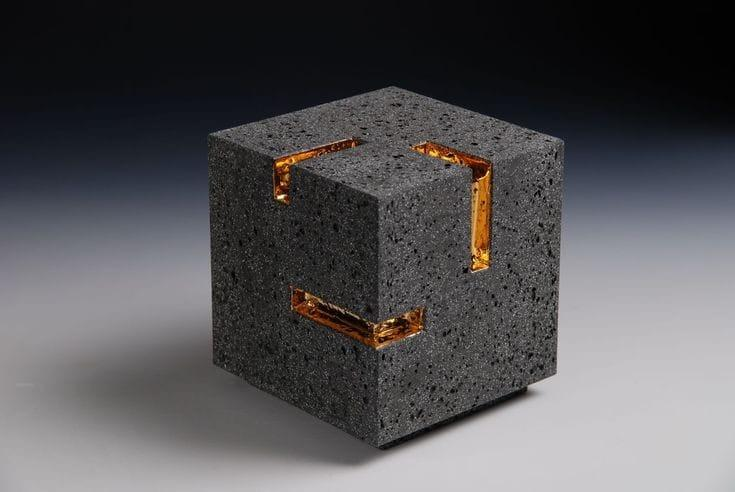cubos: (190, 74, 586, 458)
